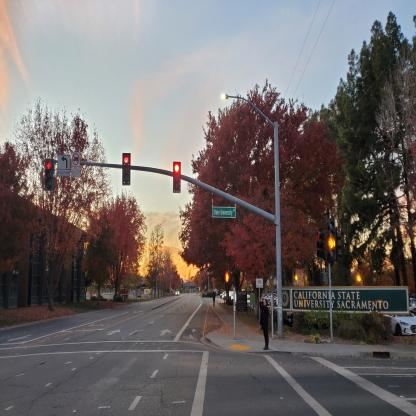left-red: (45, 158, 53, 190)
red: (122, 153, 130, 185), (173, 161, 181, 193)
